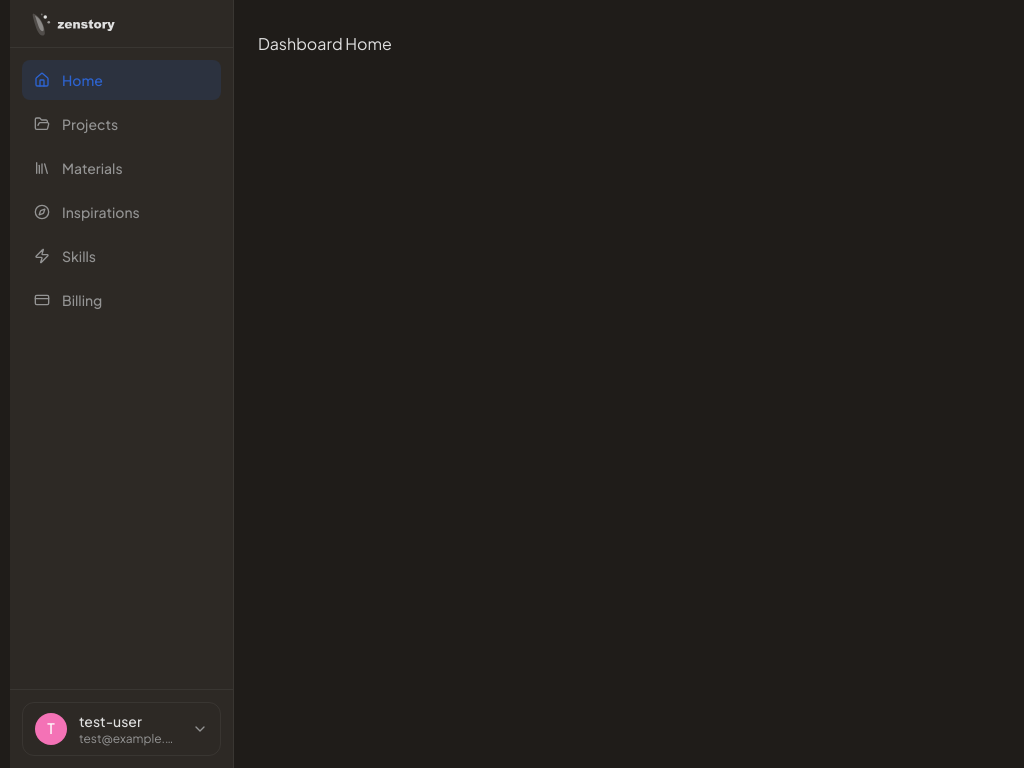
it: Dashboard user panel and quick switches › opens user panel and closes on outside click
This screenshot has width=1024, height=768.
Click the button with aria-label "Open user settings panel" at (122, 729), box 22,702 -> 221,756
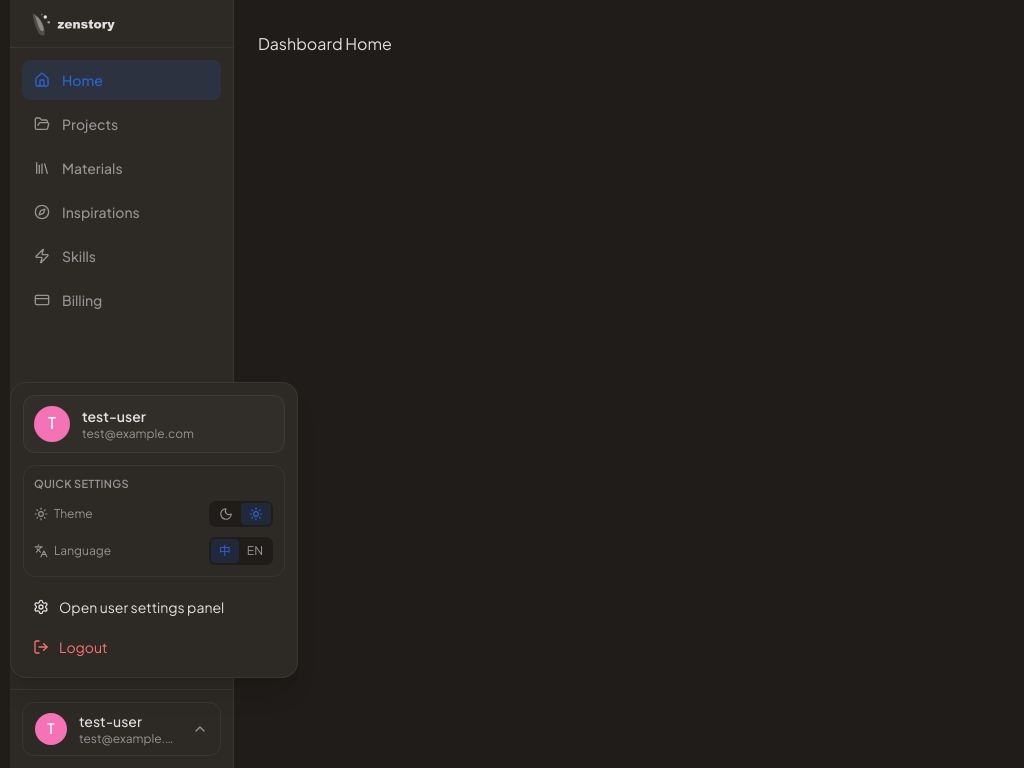
Expected: the text "Quick settings" is shown, 34,476 -> 129,490
Press the mouse on the element that starts with "Home" at (512, 384), box 10,0 -> 1014,767
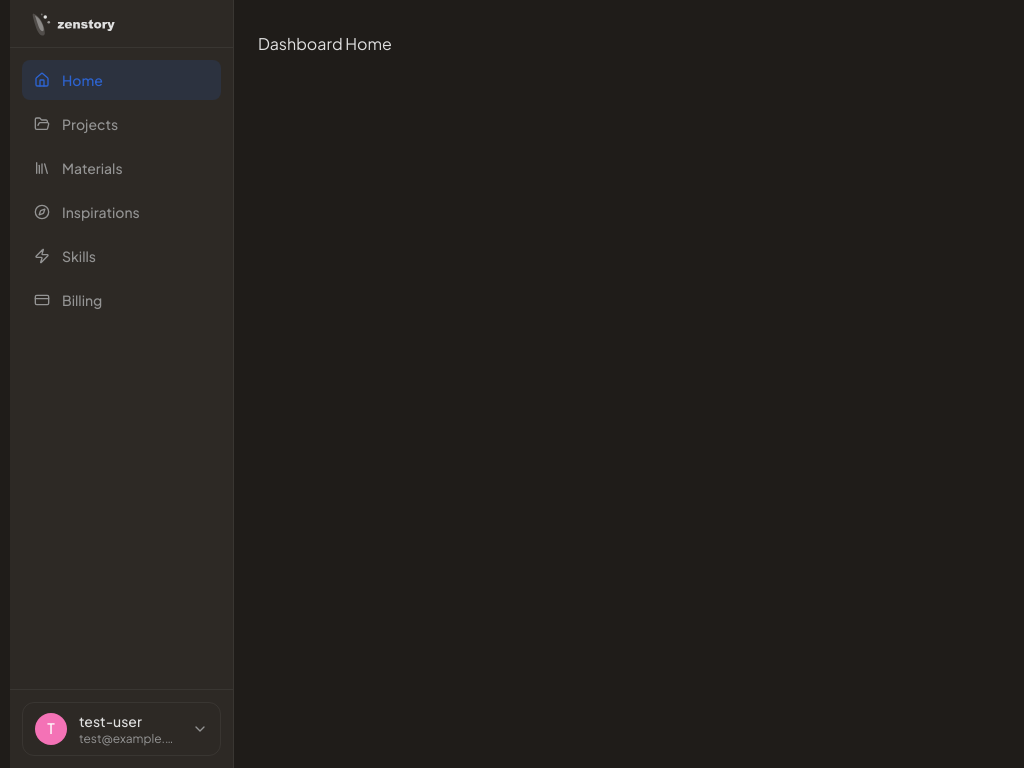
Expected: the text "Quick settings" is gone
